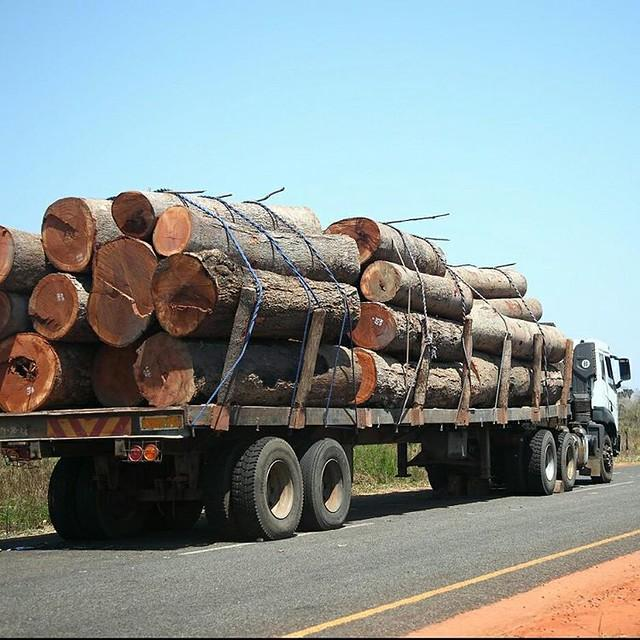Truck: (0, 166, 627, 553)
